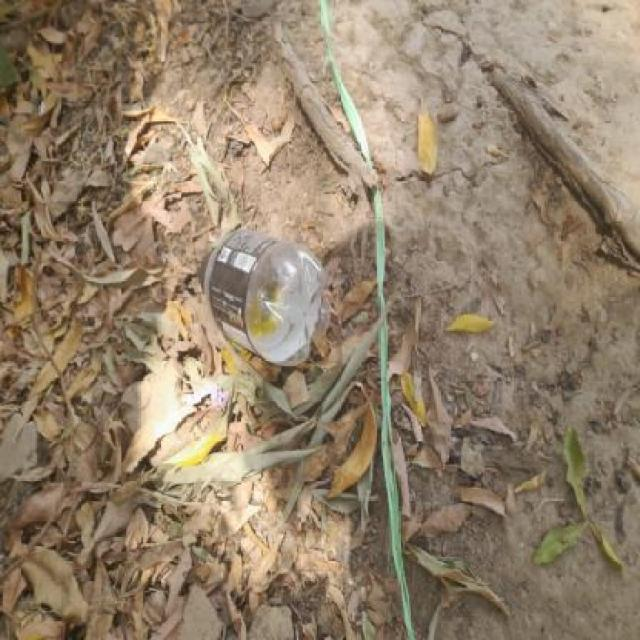garbage: (168, 220, 334, 379)
